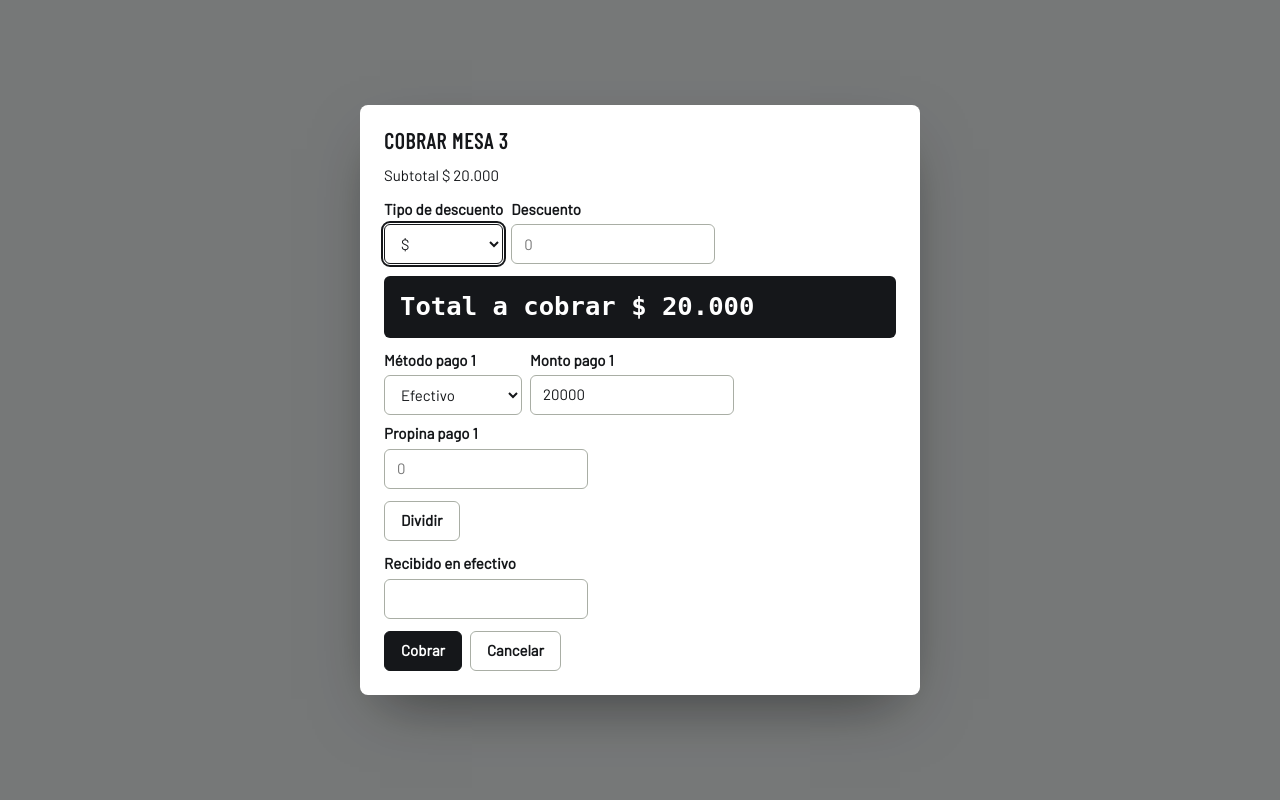
Scenario: dividir en efectivo y débito habilita Cobrar y manda los dos pagos
The image size is (1280, 800).
Later steps or results of the test are not shown.
Clear the field labelled "Monto pago 1". click: x=632, y=395
box: 530,375 -> 734,415
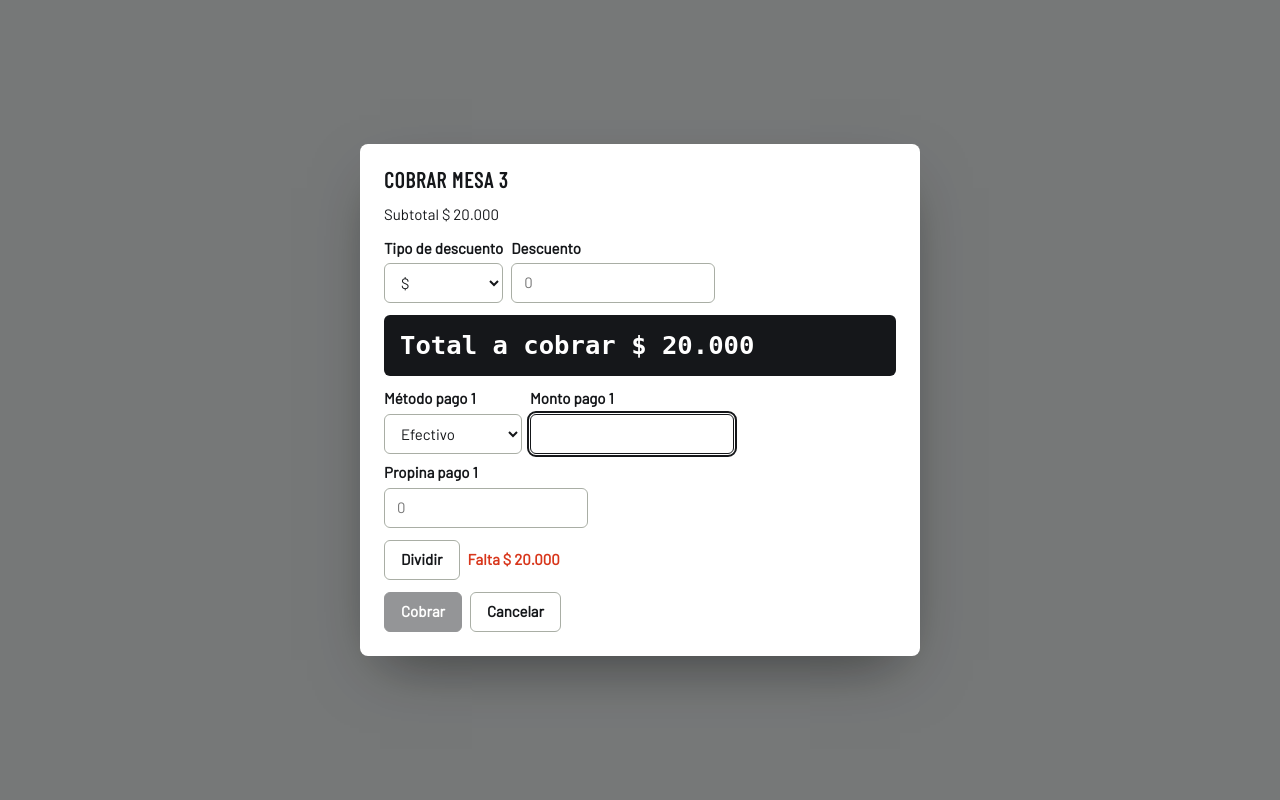
Type "12000" into the field labelled "Monto pago 1". click: x=632, y=434
box: 530,414 -> 734,454
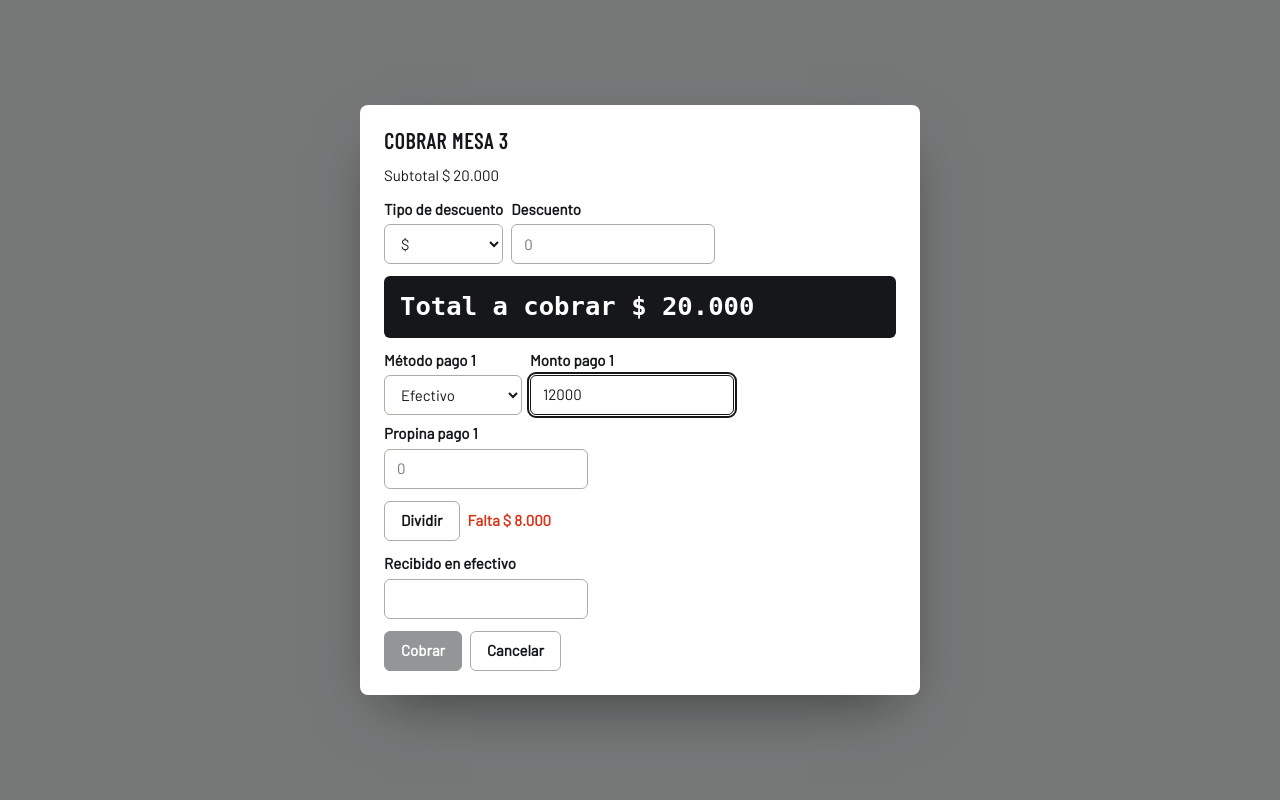
expect the button "Cobrar" is disabled: met, box 384,631 -> 462,671
expect the text "Falta $ 8.000" is shown: met, box 468,510 -> 551,532
Click the button "Dividir". click: x=422, y=521
box: 384,501 -> 460,541
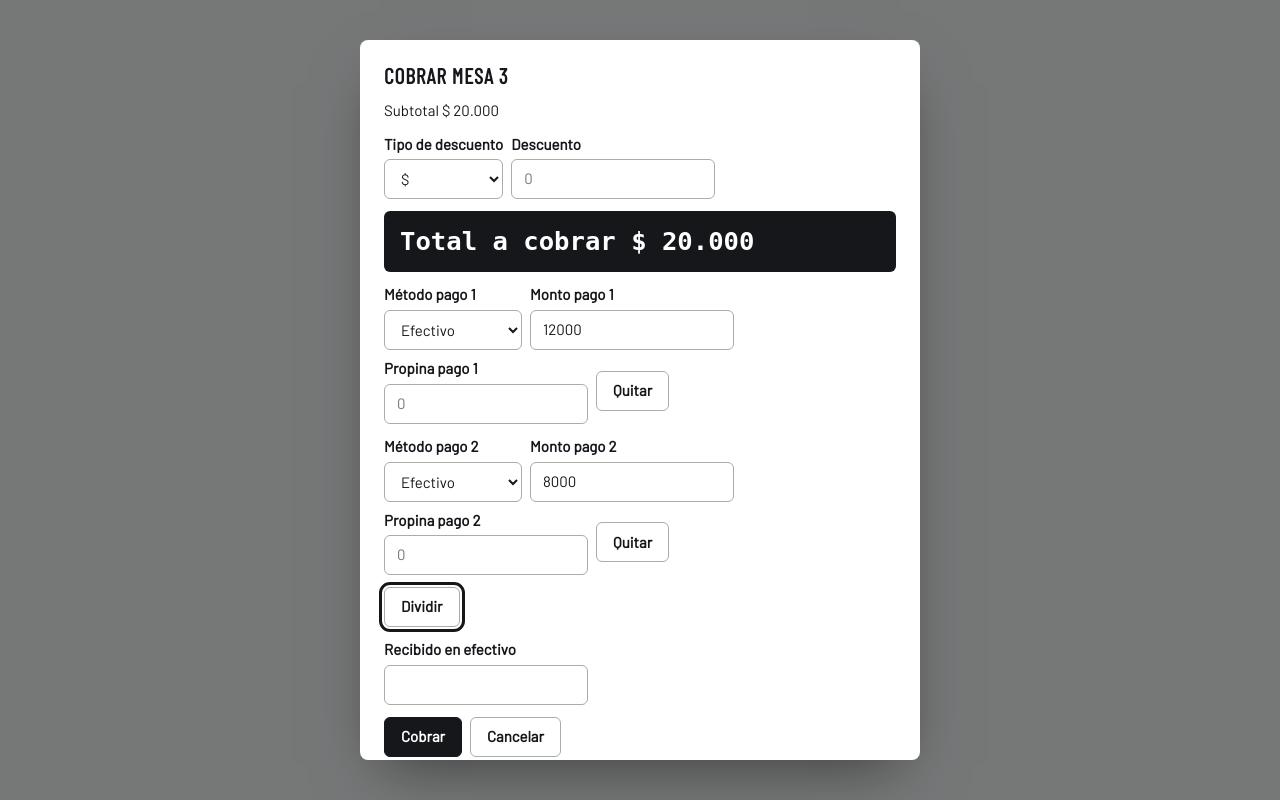
expect the field labelled "Monto pago 2" holds "8000": met, box 530,462 -> 734,502
